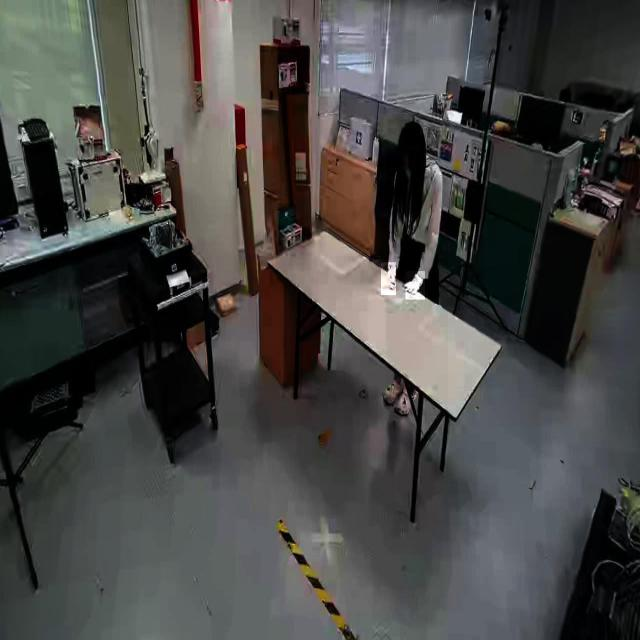hand_glove: (406, 271, 426, 301), (381, 262, 397, 296)
head_nohelmet: (399, 120, 425, 146)
person: (386, 119, 448, 417)
